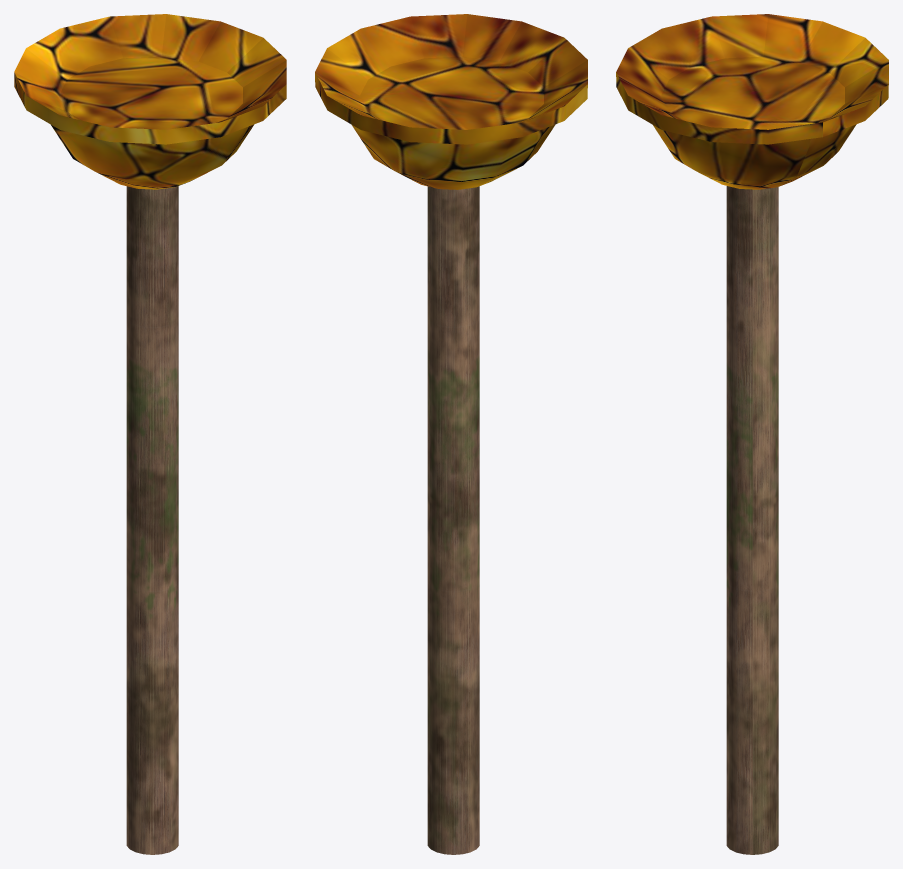
The model's file is Desatascador_goldenneon.FBX.
The picture shows the model from 3 angles, left to right: view 1: azimuth 30°, elevation 25°; view 2: azimuth 150°, elevation 25°; view 3: azimuth 270°, elevation 25°; orthographic projection.
Parts seen in each view (by area): view 1: Desatascador, Palo; view 2: Desatascador, Palo; view 3: Desatascador, Palo.
Part boxes in pixels (<box>): Desatascador: <box>14,14,286,189</box>; Palo: <box>126,186,178,854</box>; Desatascador: <box>315,14,587,189</box>; Palo: <box>427,186,479,854</box>; Desatascador: <box>616,14,888,189</box>; Palo: <box>726,186,778,854</box>.
Size of the model in its own units: 0.8388 by 2.6 by 0.8342.
Materials: 2 (2 with a texture image).
